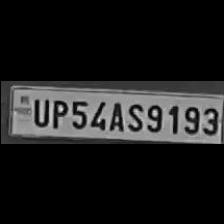1: (164, 101, 180, 133)
3: (200, 101, 218, 135)
4: (87, 96, 105, 130)
5: (66, 96, 86, 128)
9: (180, 102, 200, 134), (144, 100, 162, 132)
A: (105, 98, 123, 130)
P: (47, 96, 66, 128)
S: (124, 99, 142, 131)
U: (28, 95, 48, 127)
